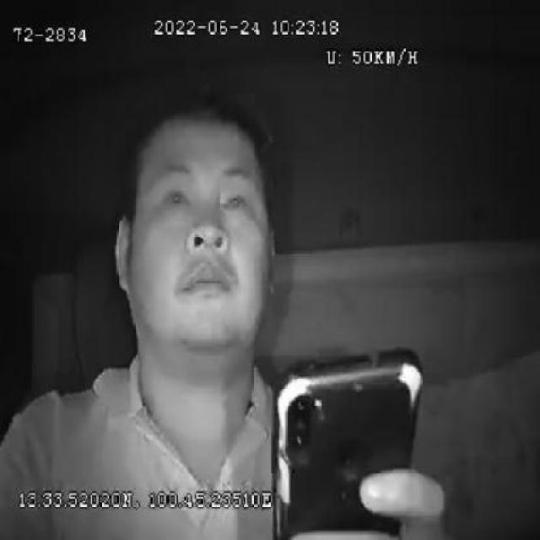phone: (269, 343, 427, 540)
